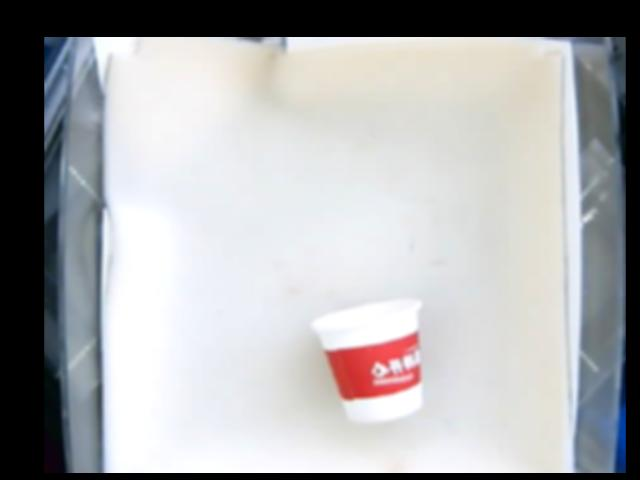Cup: (311, 295, 428, 422)
